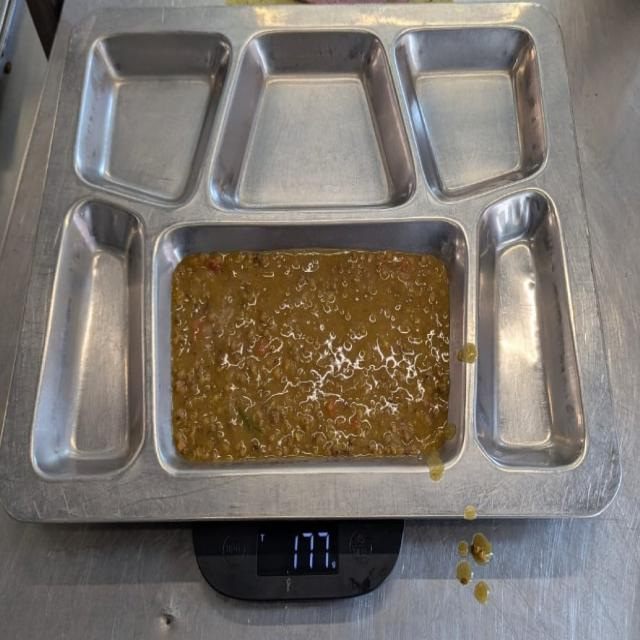Dal: (161, 226, 462, 475)
